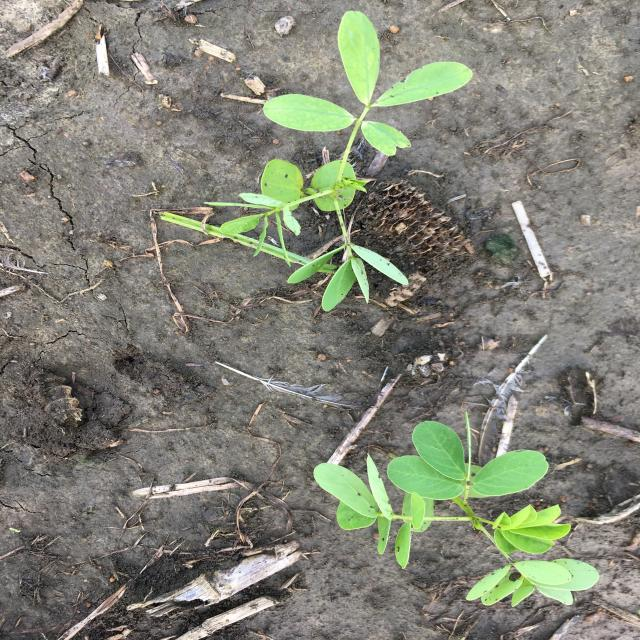Sicklepod: (201, 9, 476, 314), (309, 408, 604, 612)
